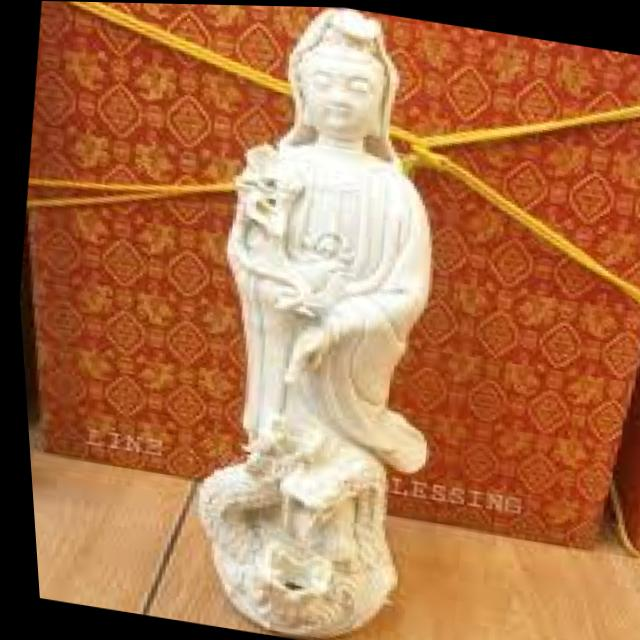Guan Yin: (178, 3, 485, 499)
